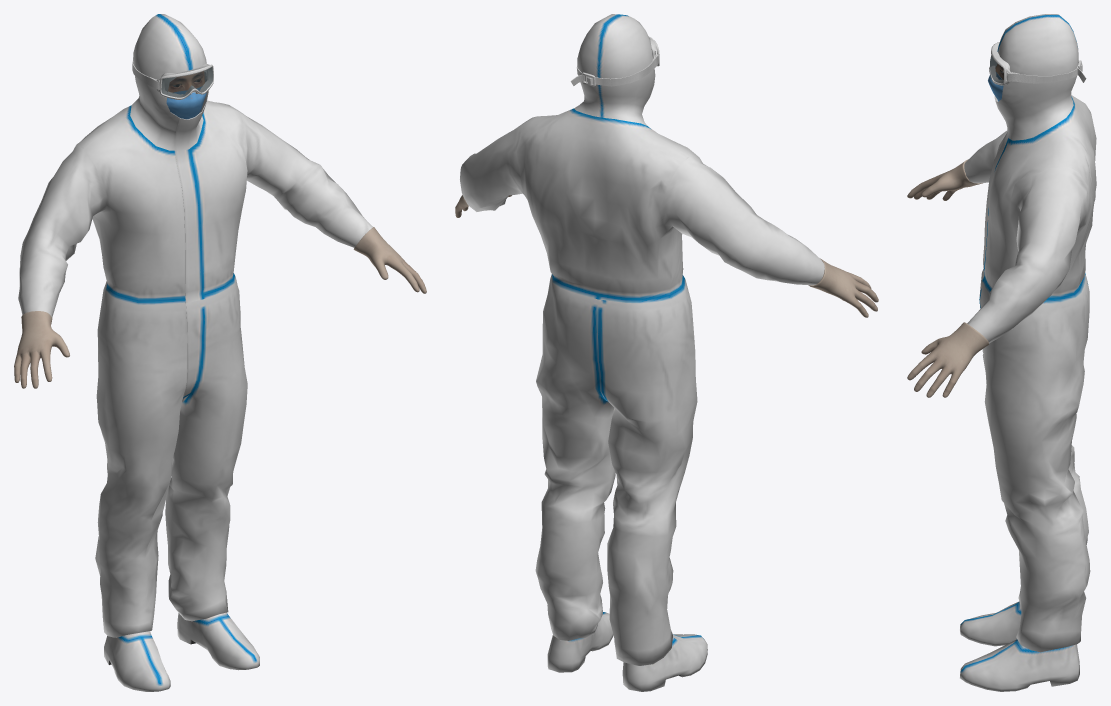
Rendered from SM_采集防护服.FBX.
3 renders of one model, left to right at view 1: azimuth 30°, elevation 25°; view 2: azimuth 150°, elevation 25°; view 3: azimuth 270°, elevation 25°, orthographic. The views are drawn at different scales.
Visible parts, largest first — view 1: SM_采集防护服; view 2: SM_采集防护服; view 3: SM_采集防护服.
Part boxes in pixels (x1,y1,x2,y2): SM_采集防护服: [14, 14, 426, 691]; SM_采集防护服: [455, 14, 878, 691]; SM_采集防护服: [907, 14, 1096, 691].
Bounding box in the file's own units: 1.2 × 1.81 × 0.4828.
